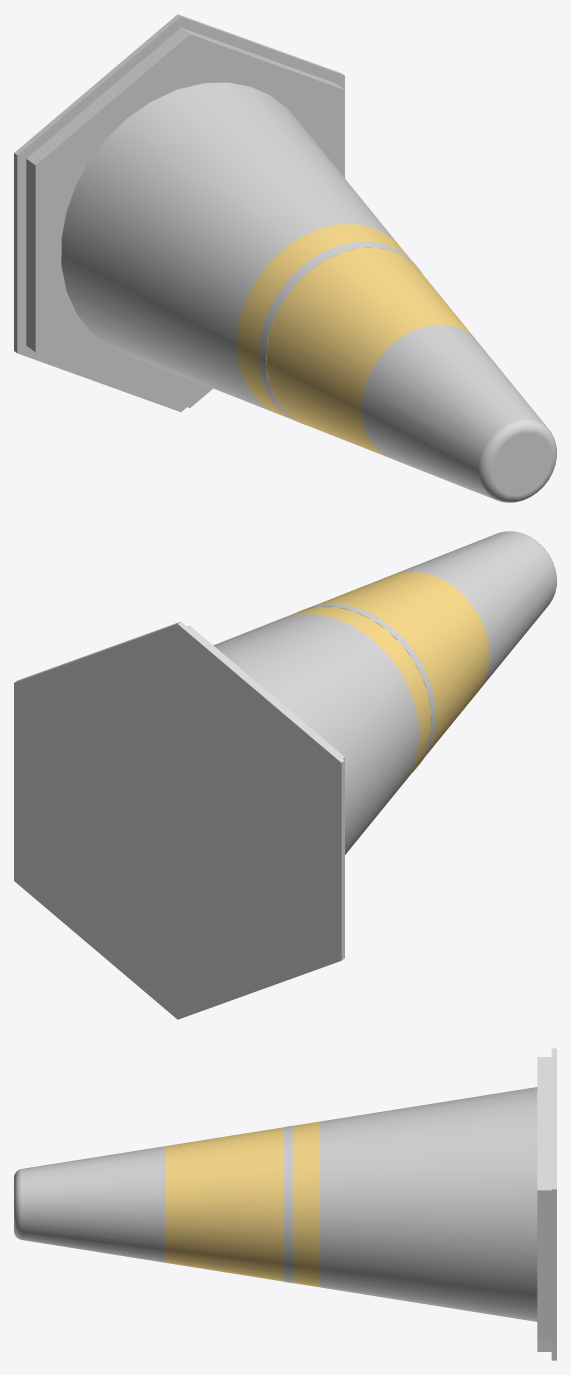
Rendered from 圆锥桶.gltf.
3 renders of one model, top to bottom at view 1: azimuth 30°, elevation 25°; view 2: azimuth 150°, elevation 25°; view 3: azimuth 270°, elevation 25°, orthographic. The views are drawn at different scales.
Parts seen in each view (by area): view 1: Default, Default_1; view 2: Default, Default_1; view 3: Default, Default_1.
Boxes of the visible parts, x1,y1,x2,y2 form: Default: [14, 14, 556, 502]; Default_1: [237, 224, 473, 458]; Default: [14, 531, 556, 1019]; Default_1: [287, 571, 489, 778]; Default: [14, 1048, 556, 1360]; Default_1: [166, 1121, 319, 1287].
Bounding box in the file's own units: 0.4556 × 0.5261 × 0.8296.
